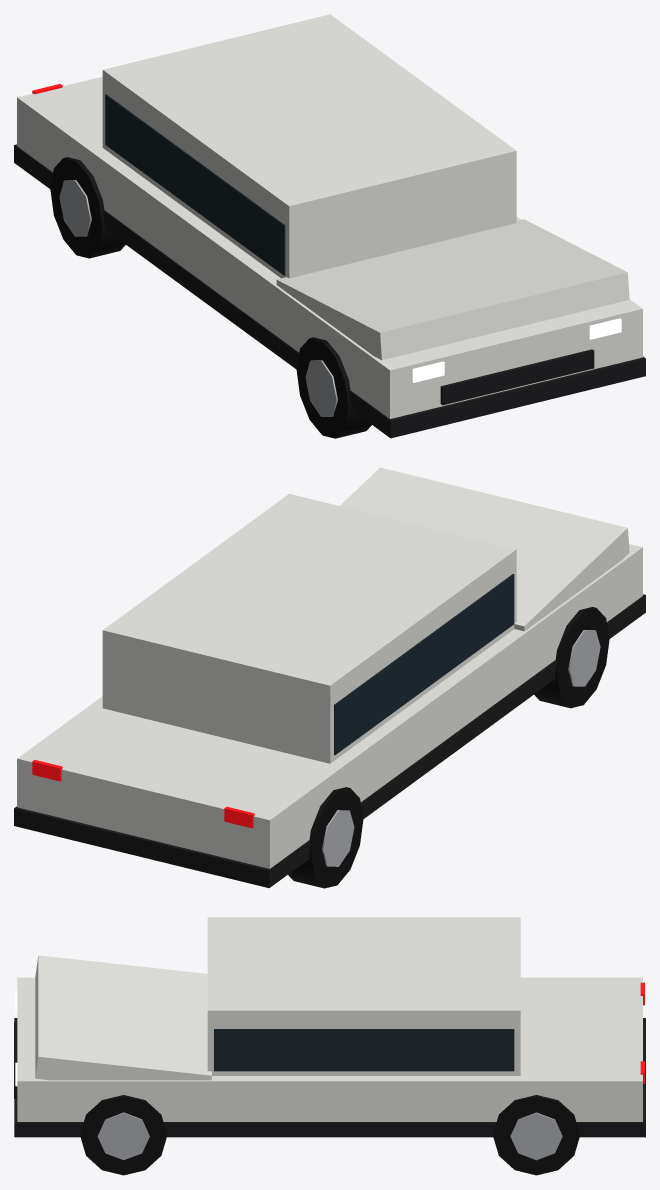
Rendered from car_sedan.glb.
3 renders of one model, top to bottom at view 1: azimuth 30°, elevation 25°; view 2: azimuth 150°, elevation 25°; view 3: azimuth 270°, elevation 25°, orthographic. The views are drawn at different scales.
Visible parts, largest first — view 1: body, wheel_RR, wheel_FR; view 2: body, wheel_RR, wheel_FR; view 3: body, wheel_FL, wheel_RL.
Part boxes in pixels (x1,y1,x2,y2): body: (14,14,645,438); wheel_RR: (50,157,125,258); wheel_FR: (296,337,371,438); body: (14,467,645,887); wheel_RR: (288,787,363,888); wheel_FR: (534,607,609,708); body: (14,917,645,1137); wheel_FL: (80,1095,167,1175); wheel_RL: (493,1095,579,1175).
Bounding box in the file's own units: 1.88 × 1.28 × 4.65.
